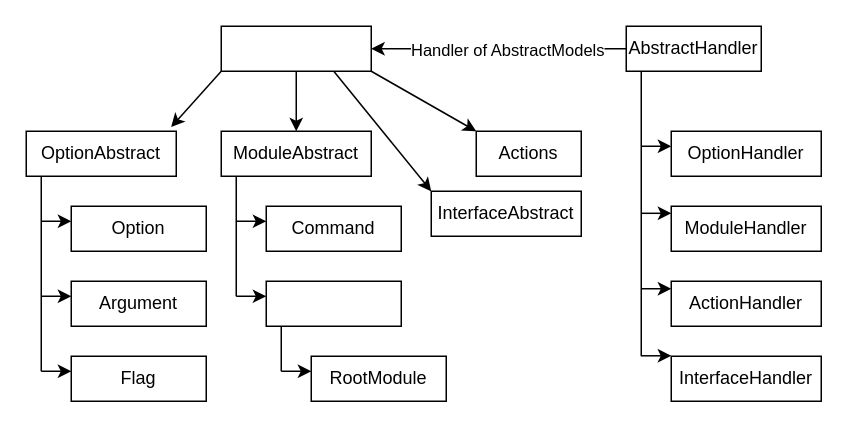
This 848x428 diagram has some shape labels left out. The box of each missing label's shape, as (x1, y1, x2, y2) in pixels:
AbstractModel: (220, 25, 371, 71)
Module: (265, 280, 401, 326)
